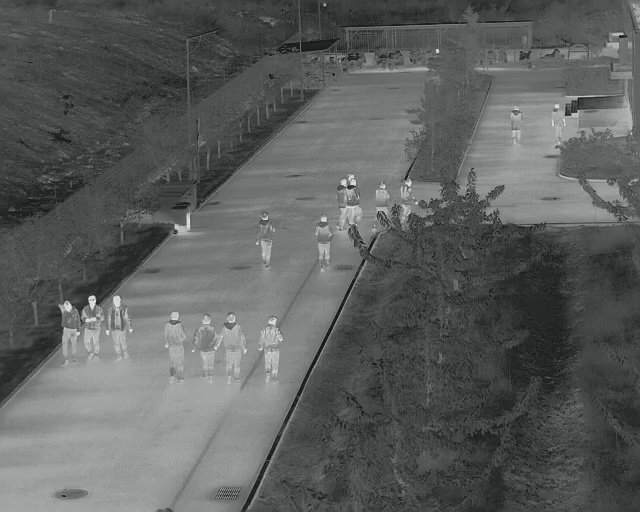person: (216, 310, 247, 384), (191, 309, 219, 386), (162, 307, 189, 386), (105, 292, 135, 362), (258, 314, 284, 384), (58, 296, 81, 370), (81, 294, 105, 364), (254, 208, 276, 270), (313, 213, 334, 274), (548, 102, 566, 142), (346, 178, 360, 227), (398, 176, 418, 209), (508, 105, 524, 146), (373, 180, 391, 207), (336, 177, 345, 227)
